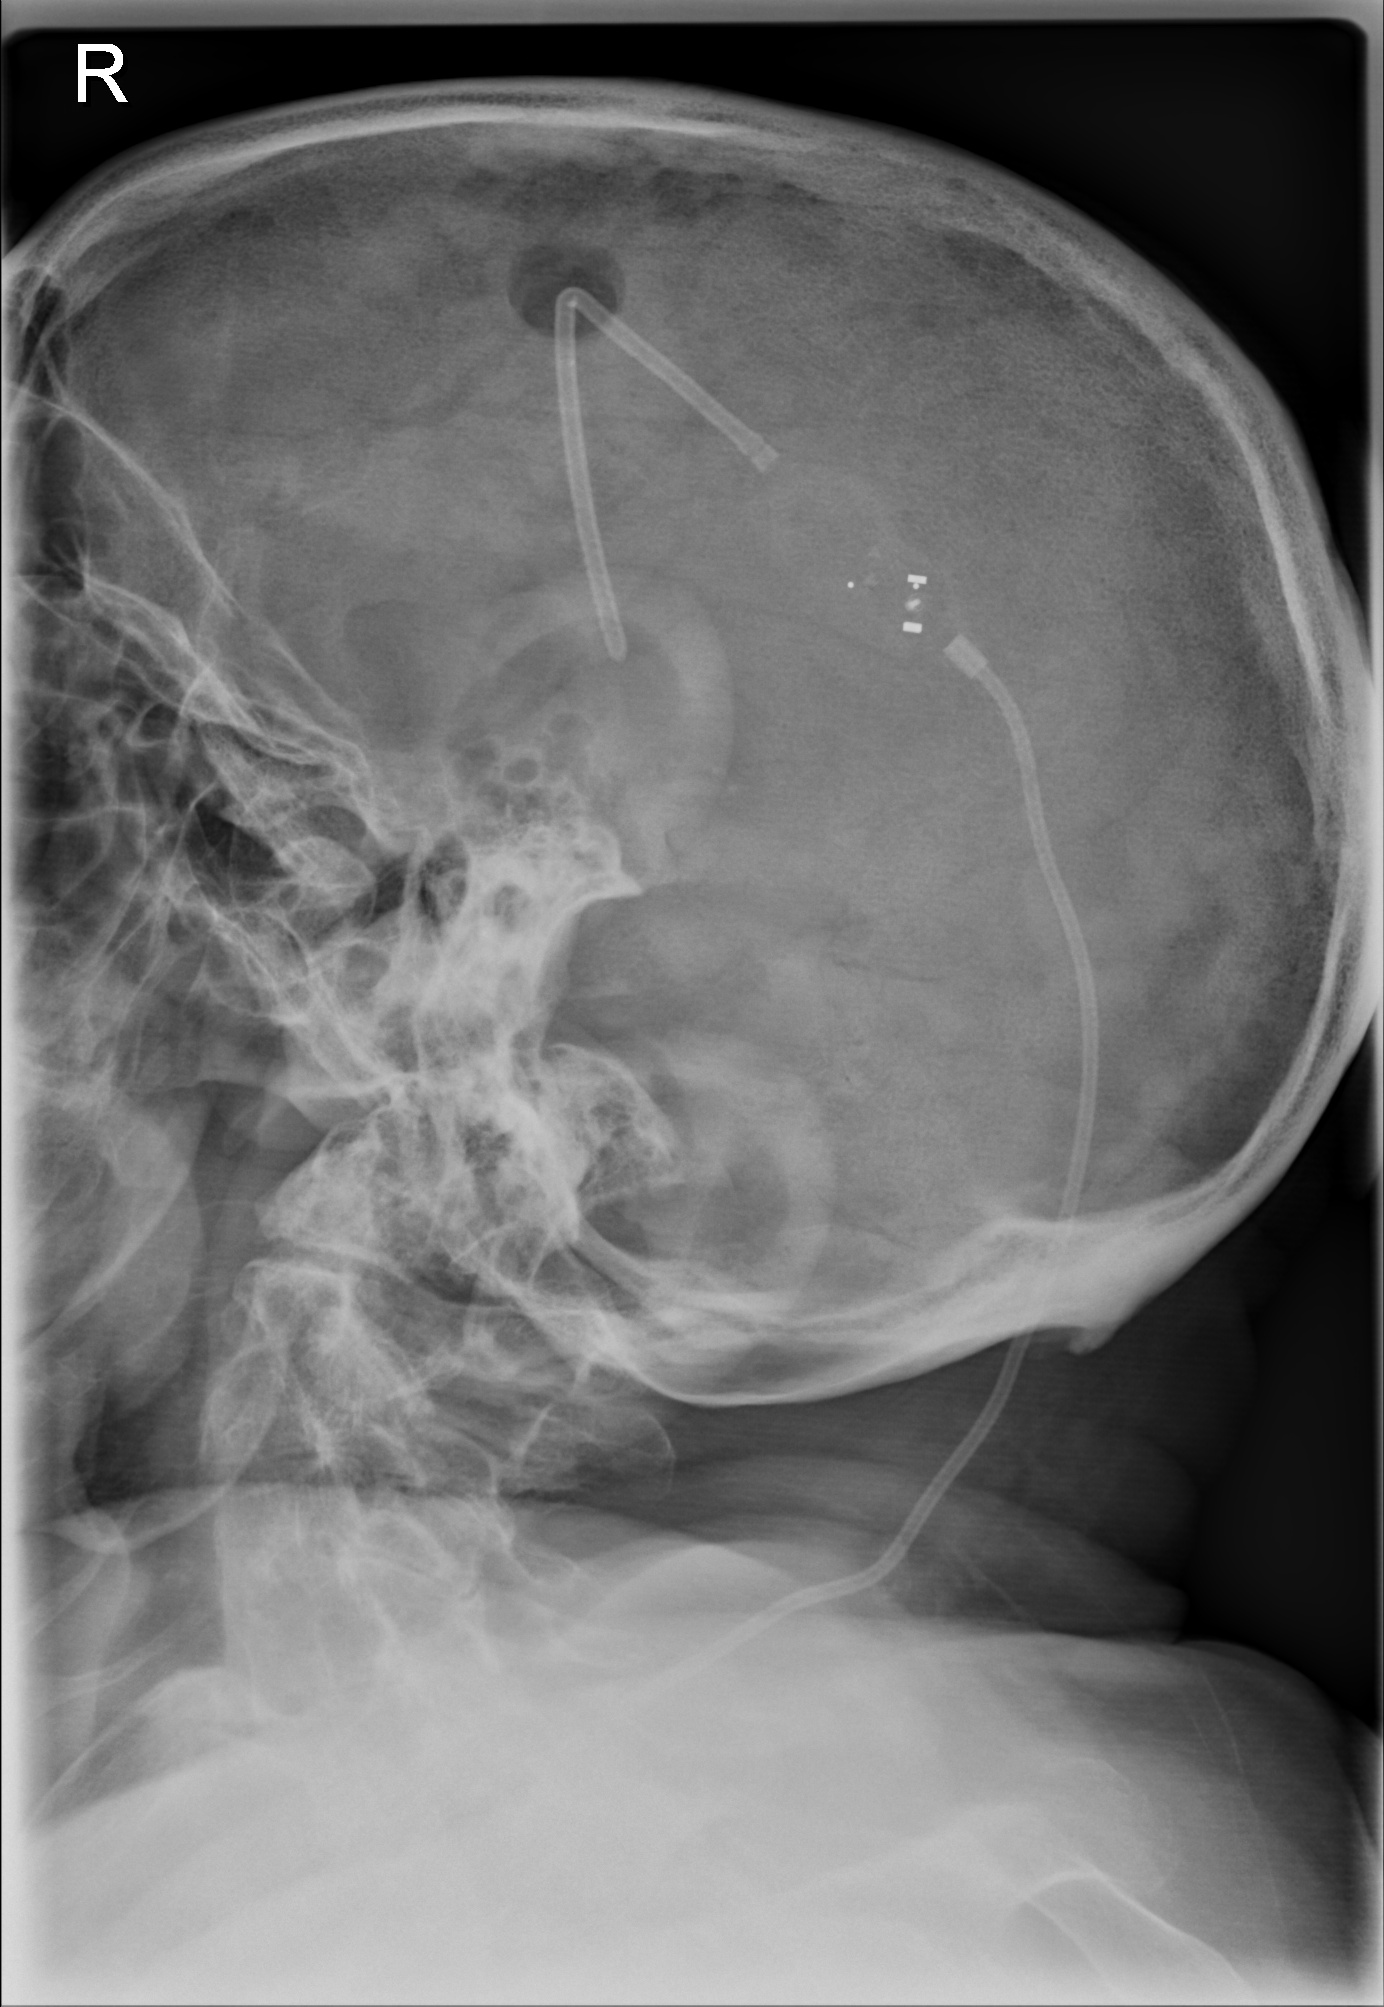Codman Certas: (826, 544, 960, 665)
